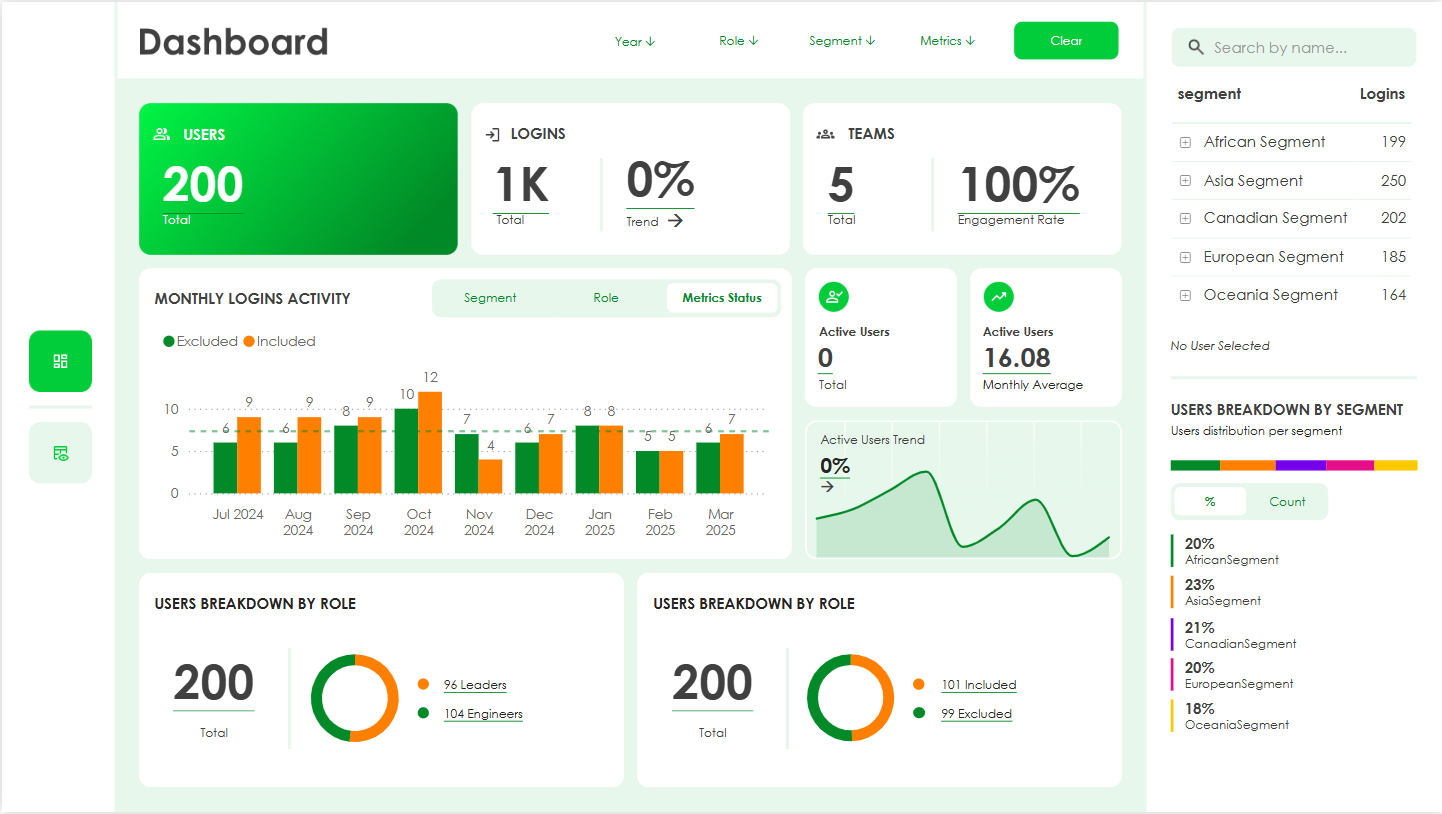

What the dashboard file says about the page in this screenshot:
{"tool":"powerbi","page":{"name":"Dashboard","canvas":[1280,720],"ordinal":0},"visuals":[{"type":"textbox","box":[550.3,125.5,188.2,84.5],"z":0,"group":"g5"},{"type":"textbox","box":[137.8,130,105.5,63.5],"z":0,"group":"g3"},{"type":"textbox","box":[431.1,130,86.9,63.8],"z":0,"group":"g4"},{"type":"textbox","box":[728.4,130,87.1,63.5],"z":0,"group":"g12"},{"type":"textbox","box":[844.8,130,123,79],"z":0,"group":"g13"},{"type":"textbox","box":[867,295.2,87.5,63.5],"z":0,"group":"g7"},{"type":"textbox","box":[720,295.4,87.3,63.3],"z":0,"group":"g6"},{"type":"barChart","fields":{"Series":["Dim_Users.segment"],"Y":["_Measures.Total Users"]},"box":[1038.8,381.8,220,52.9],"z":0},{"type":"multiRowCard","fields":{"Values":["_Measures.African Segment"]},"box":[1039.4,472.9,220,31.4],"z":0,"group":"g14"},{"type":"group","id":"g1","title":"Group 6","box":[259.1,570,266.7,97.8],"z":0,"group":"g10"},{"type":"donutChart","fields":{"Y":["_Measures.Total Users"],"Category":["Dim_Users.role"]},"box":[259.1,570,157.8,97.8],"z":0,"group":"g1"},{"type":"donutChart","fields":{"Y":["_Measures.Total Users"],"Category":["Dim_Users.metrics_inclusion_status"]},"box":[700,570.3,157.1,97.1],"z":0,"group":"g11"},{"type":"textbox","box":[136.1,572.1,105.5,63.5],"z":0,"group":"g8"},{"type":"textbox","box":[578.5,572.5,105.5,63.5],"z":0,"group":"g9"},{"type":"textbox","box":[388,593.3,137.8,28.9],"z":0,"group":"g2"},{"type":"textbox","box":[138.1,180.4,50,28],"z":1000,"group":"g3"},{"type":"textbox","box":[434.6,180.4,50,28],"z":1000,"group":"g4"},{"type":"textbox","box":[728.8,180.4,50,28],"z":1000,"group":"g12"},{"type":"textbox","box":[844.9,180.5,118.2,28.2],"z":1000,"group":"g13"},{"type":"textbox","box":[550.3,181,118.2,28.2],"z":1000,"group":"g5"},{"type":"textbox","box":[720.7,278.7,118,28],"z":1000,"group":"g6"},{"type":"textbox","box":[867,278.7,118,28],"z":1000,"group":"g7"},{"type":"cardVisual","title":"selected user","fields":{"Data":["_Measures.Selected User"]},"box":[1038.3,289.2,218.3,25.8],"z":1000},{"type":"multiRowCard","fields":{"Values":["_Measures.Asia Segment"]},"box":[1039.4,510,220,31.4],"z":1000,"group":"g14"},{"type":"textbox","box":[830,593.2,138.6,30],"z":1000,"group":"g11"},{"type":"group","id":"g2","title":"Group 5","box":[388,593.3,137.8,54.4],"z":1000,"group":"g1"},{"type":"textbox","box":[388,618.9,137.8,28.9],"z":1000,"group":"g2"},{"type":"textbox","box":[136.3,635.3,105.7,28.6],"z":1000,"group":"g8"},{"type":"textbox","box":[578.7,635.7,105.7,28.6],"z":1000,"group":"g9"},{"type":"textbox","box":[722,375.3,118,28.7],"z":2000},{"type":"multiRowCard","fields":{"Values":["_Measures.Canadian Segment"]},"box":[1039.6,547,220,31.5],"z":2000,"group":"g14"},{"type":"textbox","box":[830,618.9,138.6,28.6],"z":2000,"group":"g11"},{"type":"textbox","box":[1039,372.5,219.5,17],"z":3000},{"type":"multiRowCard","fields":{"Values":["_Measures.European Segment"]},"box":[1039.6,583,220,31.5],"z":3000,"group":"g14"},{"type":"group","id":"g3","title":"Group 1","box":[137.8,130,105.5,78.4],"z":4000},{"type":"multiRowCard","fields":{"Values":["_Measures.Oceania Segment"]},"box":[1039.6,619.5,220,31.5],"z":4000,"group":"g14"},{"type":"group","id":"g4","title":"Group 2","box":[431.1,130,86.9,78.4],"z":5000},{"type":"group","id":"g5","title":"Group 2","box":[550.3,125.5,188.2,84.5],"z":6000},{"type":"textbox","box":[720.8,326.7,117.5,28.3],"z":7000},{"type":"clusteredColumnChart","fields":{"Y":["_Measures.Total Logins"],"Category":["Dim_Calendar.Month-Year"]},"box":[137.3,282.7,549,202.7],"z":8000},{"type":"advancedSlicerVisual","fields":{"Values":["_Dynamic Legend._Dynamic Legend"]},"box":[382.7,246.4,310,33.6],"z":9000},{"type":"group","id":"g6","title":"Group 3","box":[720,278.7,118.7,80],"z":10000},{"type":"group","id":"g7","title":"Group 3","box":[867,278.7,118,80],"z":11000},{"type":"group","id":"g8","title":"Group 1","box":[136.1,572.1,105.9,91.8],"z":12000},{"type":"group","id":"g9","title":"Group 1","box":[578.5,572.5,106.7,92.2],"z":13000},{"type":"group","id":"g10","title":"Group 4","box":[259.1,570,266.7,97.8],"z":14000},{"type":"group","id":"g11","title":"Group 4","box":[700,570.3,268.6,97.1],"z":15000},{"type":"areaChart","fields":{"Y":["_Measures.Total Active Users Trend"],"Category":["Dim_Calendar.Month-Year"]},"box":[711.2,400,286.2,93.8],"z":16000},{"type":"textbox","box":[866.7,326.7,117.5,28.3],"z":17000},{"type":"actionButton","box":[1039,22.5,219.5,36],"z":18000},{"type":"textSlicer","fields":{"Values":["Dim_Users.full_name"]},"box":[1064,22.5,194.5,36],"z":19000},{"type":"pivotTable","fields":{"Rows":["Dim_Users.segment","Dim_Users.full_name"],"Values":["_Measures.Total Logins"]},"box":[1039.5,60,219,223],"z":20000},{"type":"group","id":"g12","title":"Group 2","box":[728.4,130,87.1,78.4],"z":21000},{"type":"group","id":"g13","title":"Group 2","box":[844.8,130,123,79],"z":22000},{"type":"textbox","box":[1039,349,235.5,27],"z":23000},{"type":"advancedSlicerVisual","fields":{"Values":["_Value Format Toggle.Format"]},"box":[1038.8,427.6,140,32.9],"z":24000},{"type":"group","id":"g14","title":"Group 7","box":[1039.4,472.9,220,178.2],"z":25000},{"type":"textbox","box":[752.7,103.3,72,26.7],"z":26000},{"type":"textbox","box":[161.3,104,72,26.7],"z":27000},{"type":"textbox","box":[135.8,520.8,233.3,26.7],"z":28000},{"type":"textbox","box":[452.7,103.3,72,26.7],"z":29000},{"type":"textbox","box":[578.8,520.6,232.9,26.5],"z":30000},{"type":"textbox","box":[135.8,250,233.3,26.7],"z":31000},{"type":"actionButton","title":"Button Clear Slicers","box":[898.9,16.7,94.4,35.6],"z":32000},{"type":"actionButton","title":"Button Segment Open","box":[701.2,16.9,92.7,35.4],"z":33000},{"type":"actionButton","title":"Button Role Open","box":[609.1,17.2,92.7,35.2],"z":34000},{"type":"actionButton","title":"Button Metrics Open","box":[794,17,93,35],"z":35000},{"type":"actionButton","title":"Button Year Open","box":[516.9,17.5,92.5,35],"z":36000},{"type":"card","fields":{"Values":["_Measures.Login Trend Mark"]},"box":[585.3,182,26,28.7],"z":41000},{"type":"textbox","box":[721.7,395,88.3,37.5],"z":42000},{"type":"card","fields":{"Values":["_Measures.ActiveUsersTrendMark"]},"box":[720,418.8,27.5,28.8],"z":43000}]}

Visuals, with their boxes on the page's 1280x720 design canvas (x1, y1, x2, y2). These are canvas units, not pixel positions in the 1442x814 screenshot, which may show the page scaled, cropped or inside an application window:
textbox: box=[550, 126, 738, 210]
textbox: box=[138, 130, 243, 194]
textbox: box=[431, 130, 518, 194]
textbox: box=[728, 130, 816, 194]
textbox: box=[845, 130, 968, 209]
textbox: box=[867, 295, 954, 359]
textbox: box=[720, 295, 807, 359]
barChart - Dim_Users.segment x _Measures.Total Users: box=[1039, 382, 1259, 435]
multiRowCard - _Measures.African Segment: box=[1039, 473, 1259, 504]
"Group 6" group: box=[259, 570, 526, 668]
donutChart - _Measures.Total Users x Dim_Users.role: box=[259, 570, 417, 668]
donutChart - _Measures.Total Users x Dim_Users.metrics_inclusion_status: box=[700, 570, 857, 667]
textbox: box=[136, 572, 242, 636]
textbox: box=[578, 572, 684, 636]
textbox: box=[388, 593, 526, 622]
textbox: box=[138, 180, 188, 208]
textbox: box=[435, 180, 485, 208]
textbox: box=[729, 180, 779, 208]
textbox: box=[845, 180, 963, 209]
textbox: box=[550, 181, 668, 209]
textbox: box=[721, 279, 839, 307]
textbox: box=[867, 279, 985, 307]
"selected user" cardVisual: box=[1038, 289, 1257, 315]
multiRowCard - _Measures.Asia Segment: box=[1039, 510, 1259, 541]
textbox: box=[830, 593, 969, 623]
"Group 5" group: box=[388, 593, 526, 648]
textbox: box=[388, 619, 526, 648]
textbox: box=[136, 635, 242, 664]
textbox: box=[579, 636, 684, 664]
textbox: box=[722, 375, 840, 404]
multiRowCard - _Measures.Canadian Segment: box=[1040, 547, 1260, 578]
textbox: box=[830, 619, 969, 648]
textbox: box=[1039, 372, 1258, 390]
multiRowCard - _Measures.European Segment: box=[1040, 583, 1260, 614]
"Group 1" group: box=[138, 130, 243, 208]
multiRowCard - _Measures.Oceania Segment: box=[1040, 620, 1260, 651]
"Group 2" group: box=[431, 130, 518, 208]
"Group 2" group: box=[550, 126, 738, 210]
textbox: box=[721, 327, 838, 355]
clusteredColumnChart - _Measures.Total Logins x Dim_Calendar.Month-Year: box=[137, 283, 686, 485]
advancedSlicerVisual - _Dynamic Legend._Dynamic Legend: box=[383, 246, 693, 280]
"Group 3" group: box=[720, 279, 839, 359]
"Group 3" group: box=[867, 279, 985, 359]
"Group 1" group: box=[136, 572, 242, 664]
"Group 1" group: box=[578, 572, 685, 665]
"Group 4" group: box=[259, 570, 526, 668]
"Group 4" group: box=[700, 570, 969, 667]
areaChart - _Measures.Total Active Users Trend x Dim_Calendar.Month-Year: box=[711, 400, 997, 494]
textbox: box=[867, 327, 984, 355]
actionButton: box=[1039, 22, 1258, 58]
textSlicer - Dim_Users.full_name: box=[1064, 22, 1258, 58]
pivotTable - Dim_Users.segment x Dim_Users.full_name: box=[1040, 60, 1258, 283]
"Group 2" group: box=[728, 130, 816, 208]
"Group 2" group: box=[845, 130, 968, 209]
textbox: box=[1039, 349, 1274, 376]
advancedSlicerVisual - _Value Format Toggle.Format: box=[1039, 428, 1179, 460]
"Group 7" group: box=[1039, 473, 1259, 651]
textbox: box=[753, 103, 825, 130]
textbox: box=[161, 104, 233, 131]
textbox: box=[136, 521, 369, 548]
textbox: box=[453, 103, 525, 130]
textbox: box=[579, 521, 812, 547]
textbox: box=[136, 250, 369, 277]
"Button Clear Slicers" actionButton: box=[899, 17, 993, 52]
"Button Segment Open" actionButton: box=[701, 17, 794, 52]
"Button Role Open" actionButton: box=[609, 17, 702, 52]
"Button Metrics Open" actionButton: box=[794, 17, 887, 52]
"Button Year Open" actionButton: box=[517, 18, 609, 52]
card - _Measures.Login Trend Mark: box=[585, 182, 611, 211]
textbox: box=[722, 395, 810, 432]
card - _Measures.ActiveUsersTrendMark: box=[720, 419, 748, 448]
